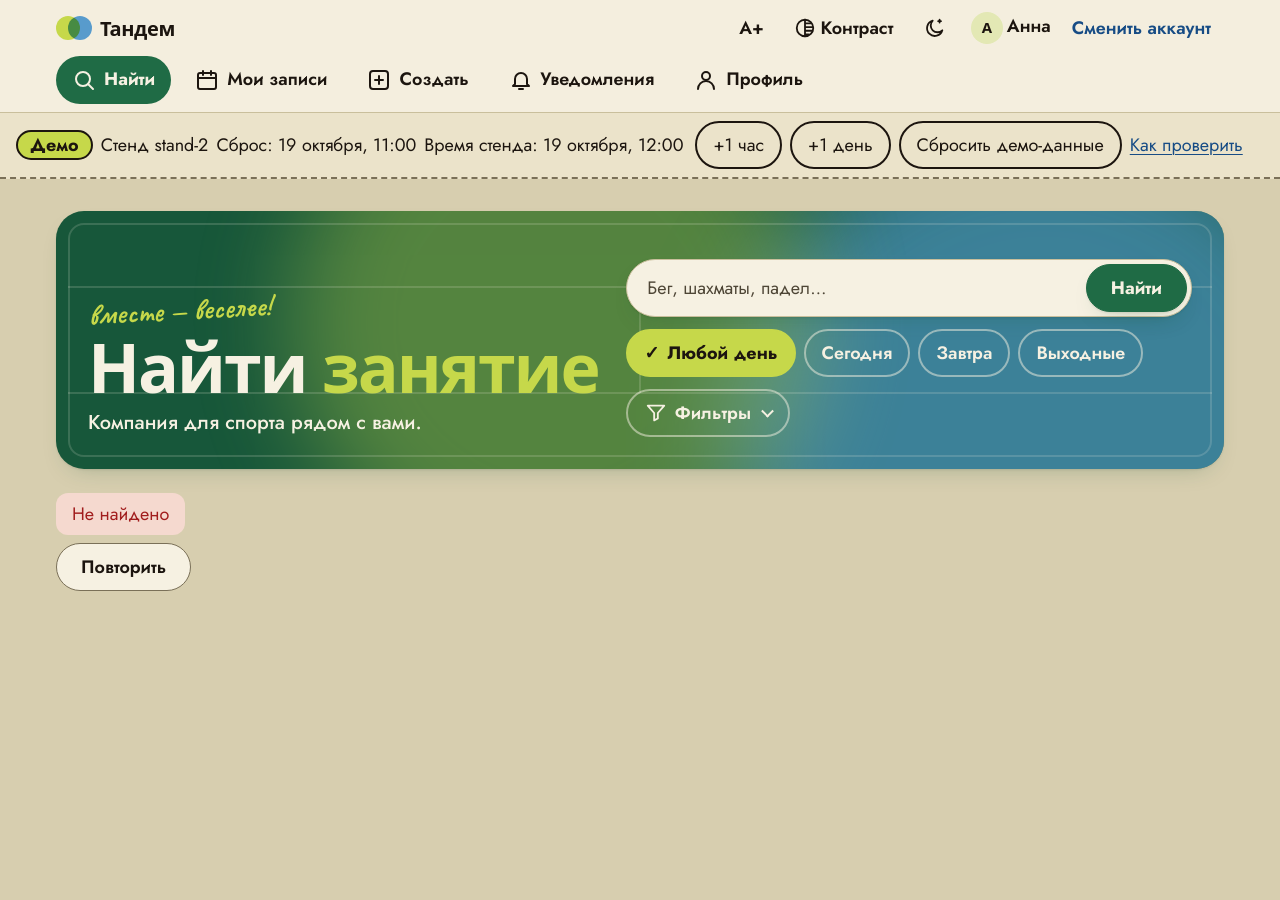
Test: демо-панель (ТЗ 4.6) › сброс — только после подтверждения; «Отмена» ничего не стирает
This screenshot has width=1280, height=900.
Click the button "Сбросить демо-данные" at (1010, 145), box [899,121,1122,169]
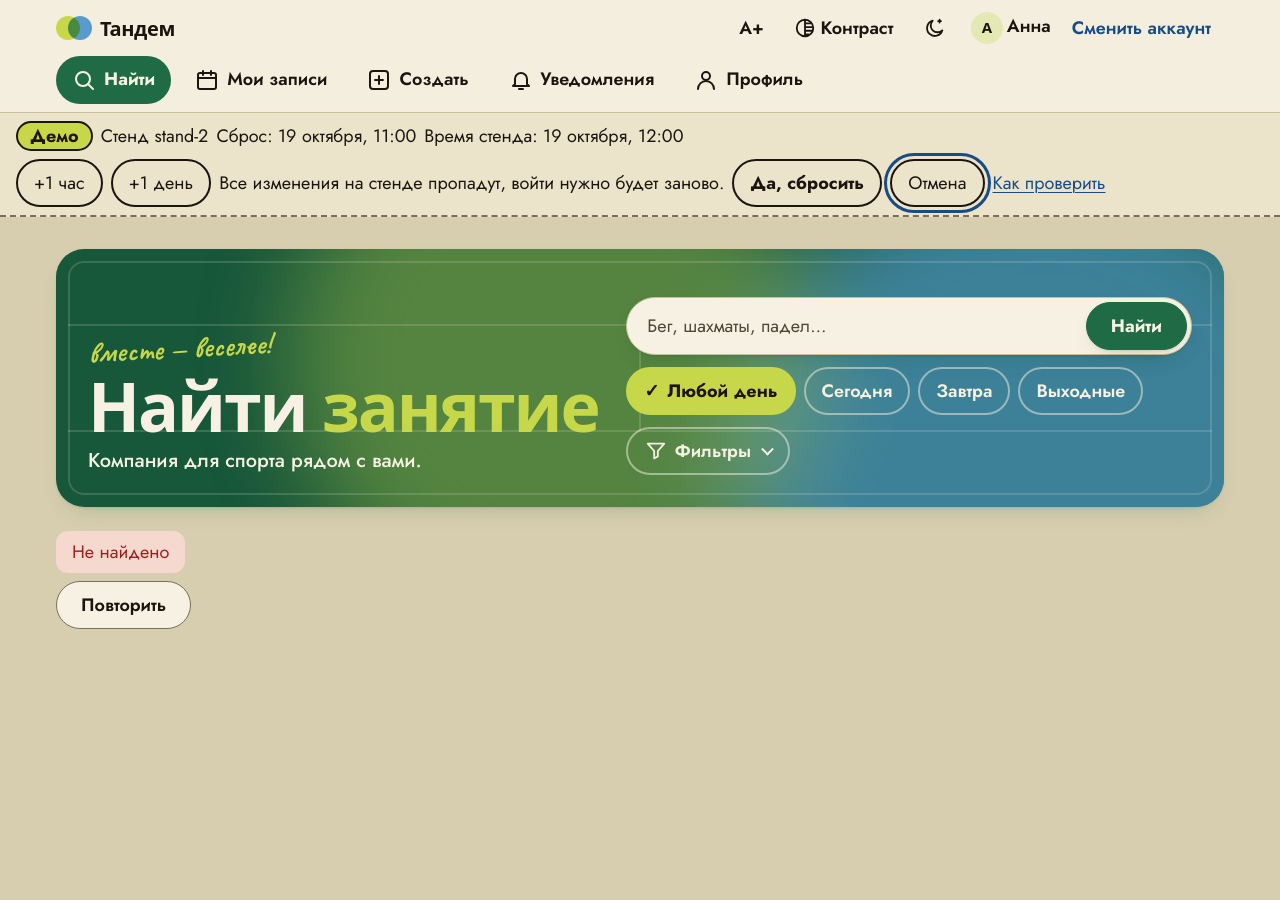
Click the button "Отмена" at (937, 183), box [890,159,985,207]
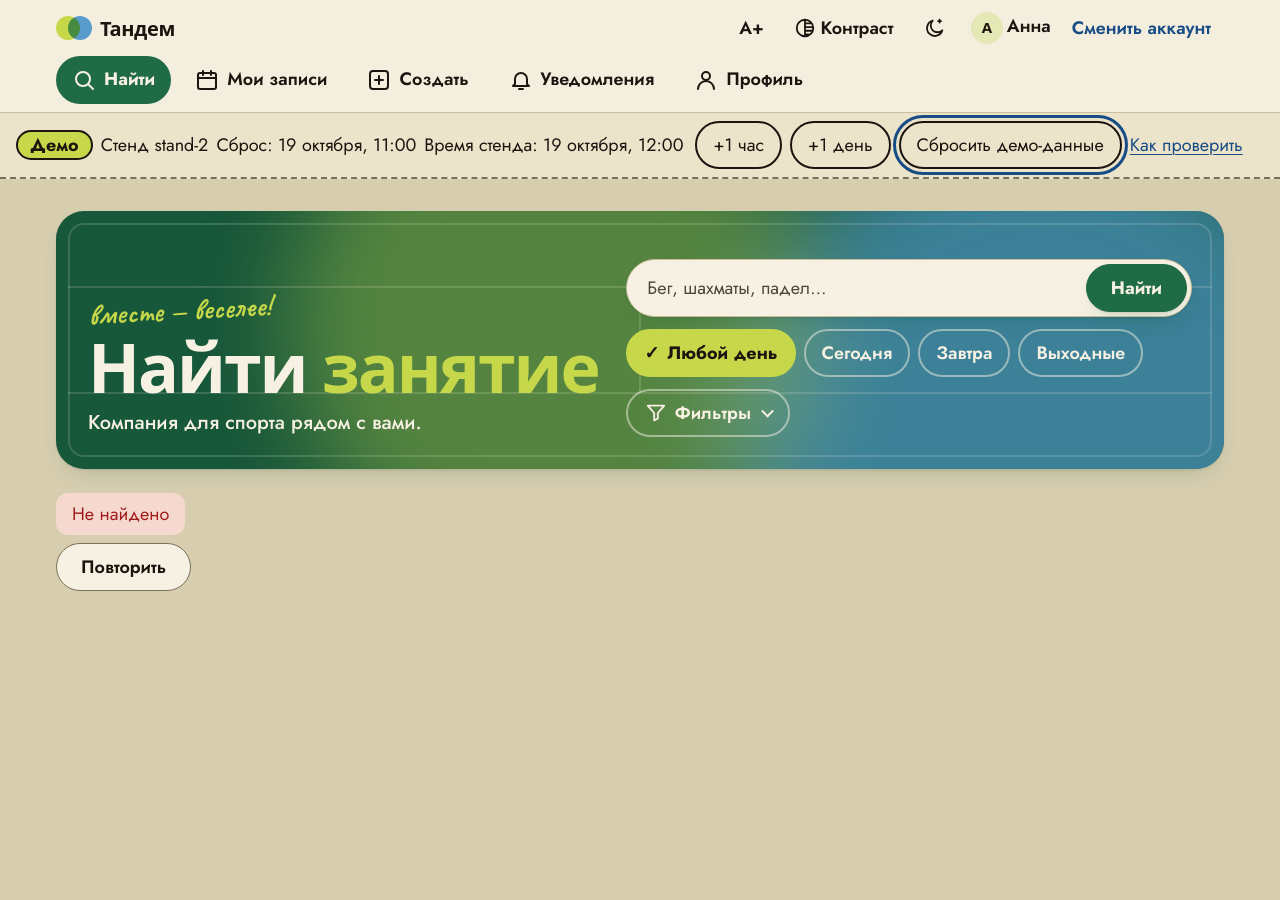
Now the button "Да, сбросить" is gone
